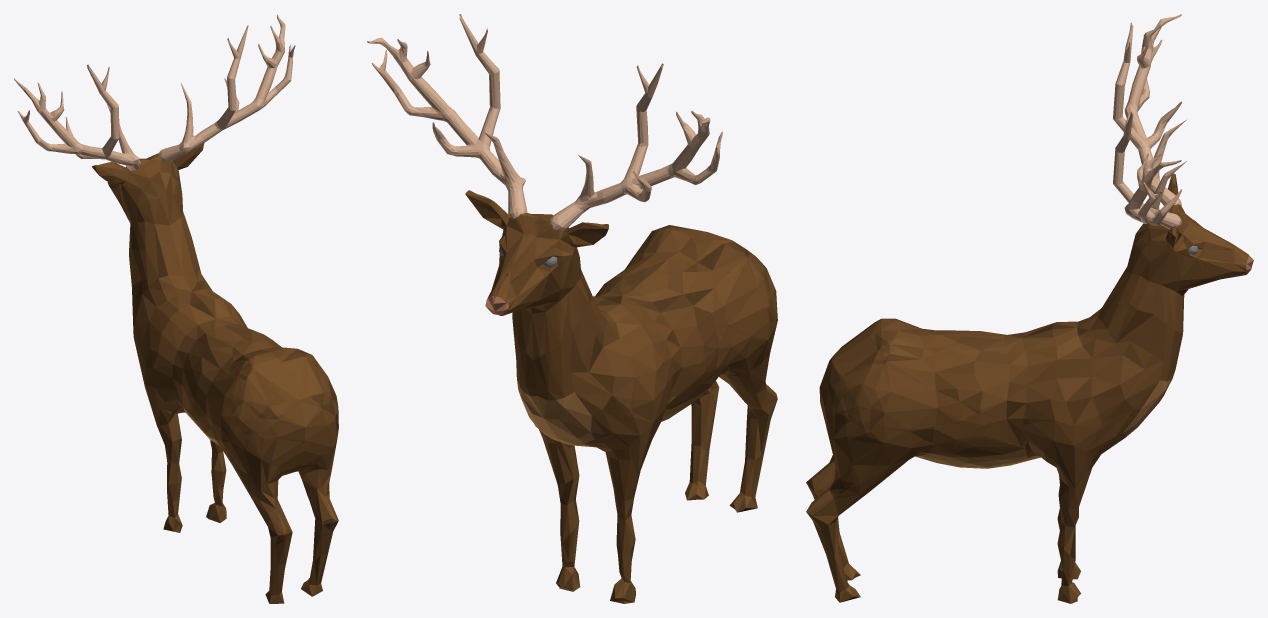
File: ciervoprueba.fbx
3 views of the same model, side by side, from view 1: azimuth 30°, elevation 25°; view 2: azimuth 150°, elevation 25°; view 3: azimuth 270°, elevation 25° (orthographic). The views are drawn at different scales.
Visible parts, largest first — view 1: DynaWax128_002, Cuerno1, Cuerno2; view 2: DynaWax128_002, Cuerno1, Cuerno2; view 3: DynaWax128_002, Cuerno2, Cuerno1.
Boxes of the visible parts, x1,y1,x2,y2 form: DynaWax128_002: (92,143,338,603); Cuerno1: (158,14,295,162); Cuerno2: (14,64,140,170); DynaWax128_002: (465,190,777,603); Cuerno1: (367,14,527,219); Cuerno2: (549,63,722,229); DynaWax128_002: (806,173,1253,603); Cuerno2: (1113,14,1186,205); Cuerno1: (1113,107,1186,229).
Size of the model in its own units: 2.24 by 3.59 by 2.79.
